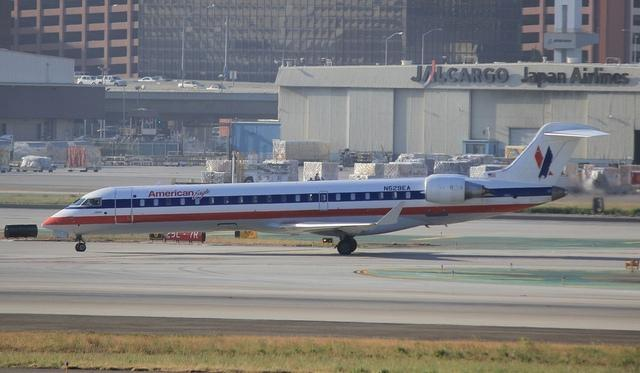car: (101, 75, 128, 86), (177, 81, 205, 88), (78, 76, 100, 84), (205, 84, 228, 90), (152, 76, 173, 82), (74, 71, 92, 78), (138, 78, 156, 82)
truck: (67, 145, 101, 173), (242, 164, 292, 182), (20, 155, 54, 173)
